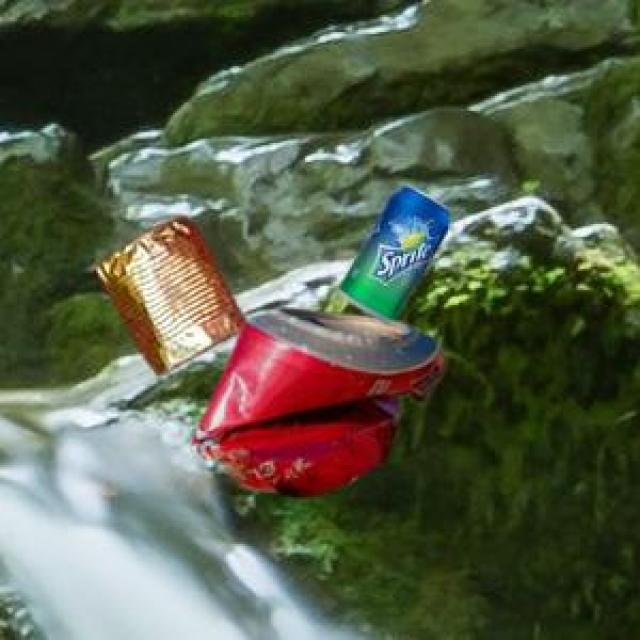Can: (189, 306, 445, 494), (95, 214, 242, 370), (336, 182, 447, 319)
